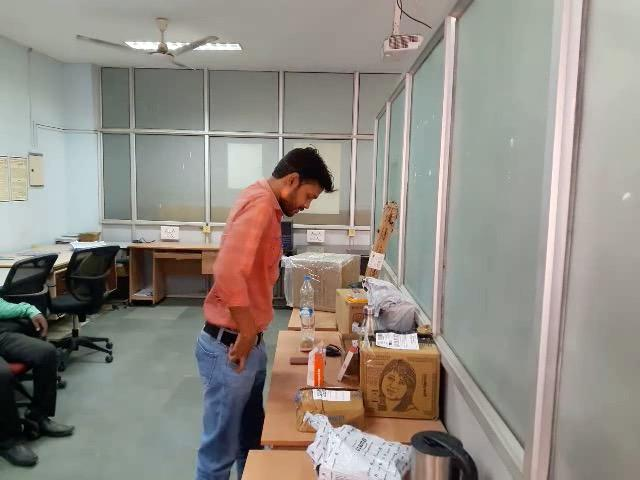shoplifting: (217, 321, 278, 398)
